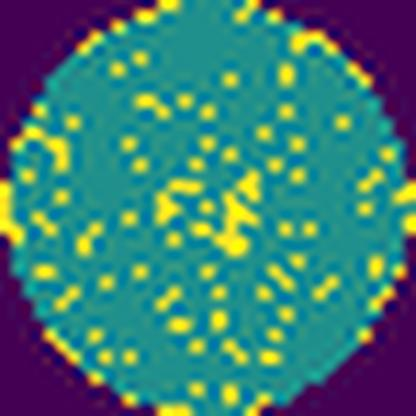Loc: (193, 170, 266, 256), (151, 169, 205, 226)
